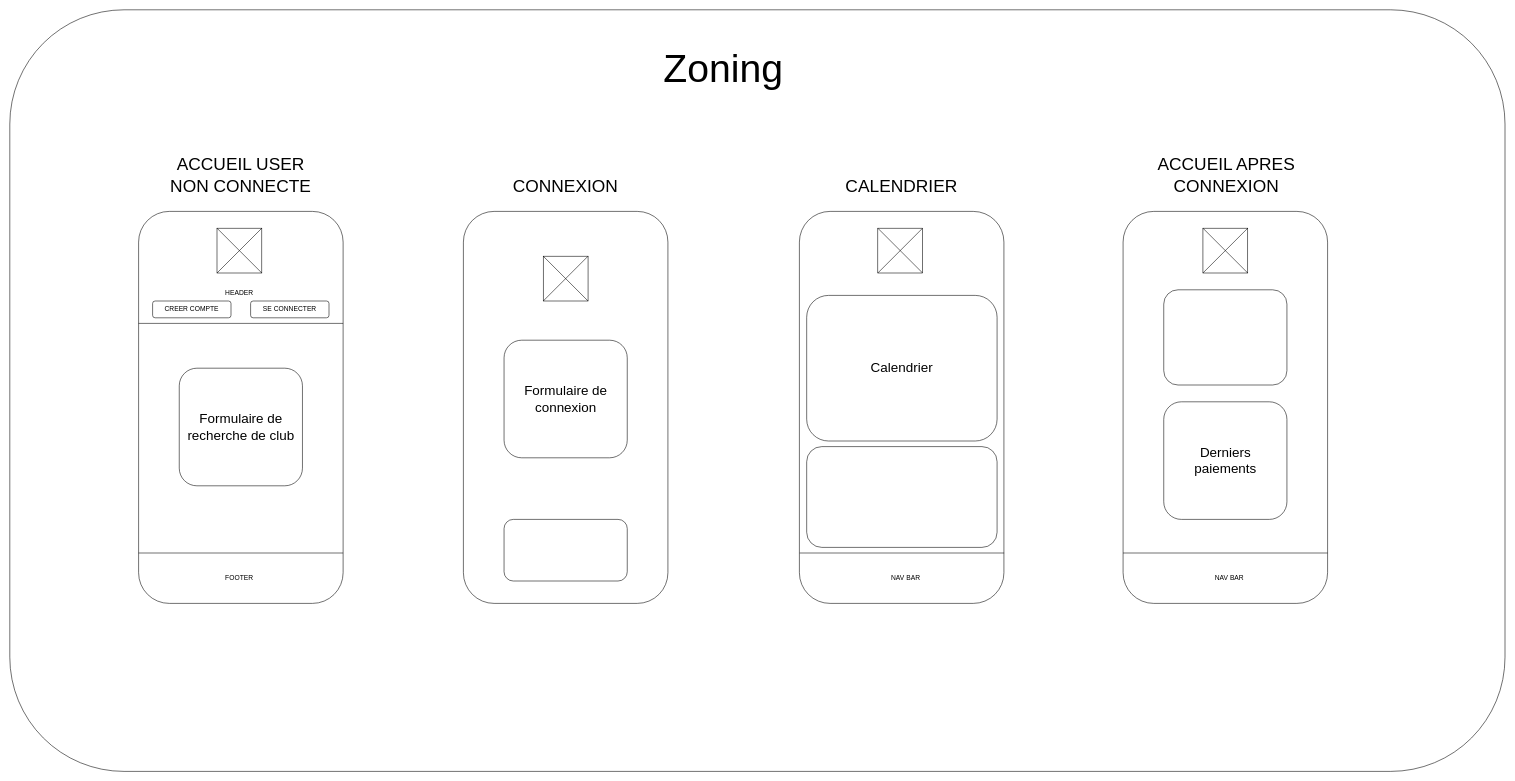
Image size: 1515x781. Some labels were removed from this diagram. Each missing label, with the centre of its shape:
Derniers évènements: (1225,337)
Lien pour créer un compte: (565,550)
Liste des prochains évènements: (901,496)
